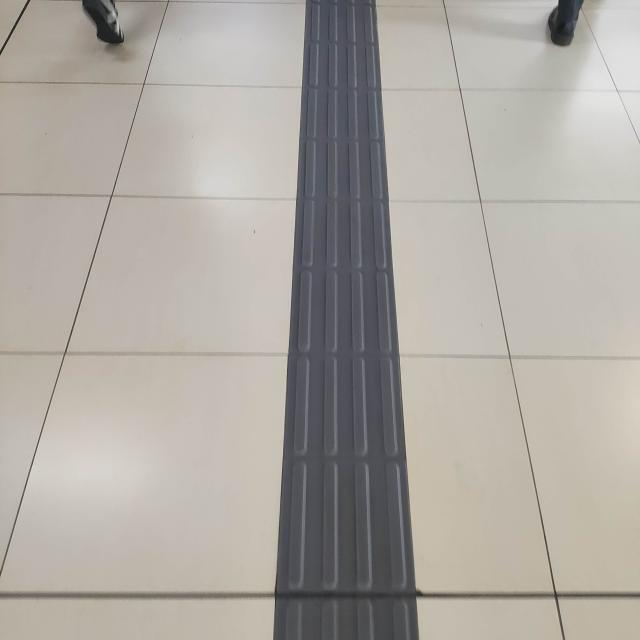lurus: (282, 22, 397, 640)
